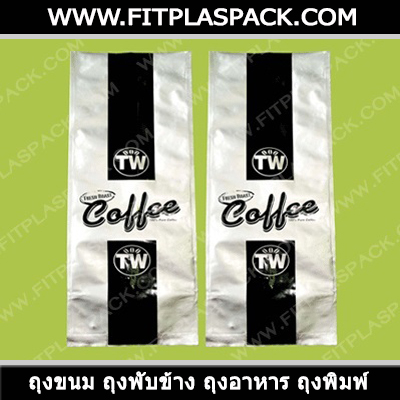Snack: (64, 46, 203, 348)
